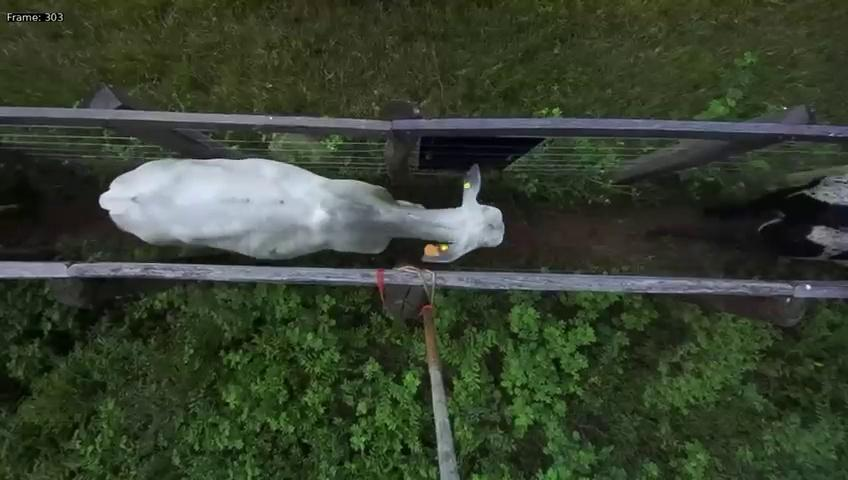cattle: (98, 142, 506, 265)
